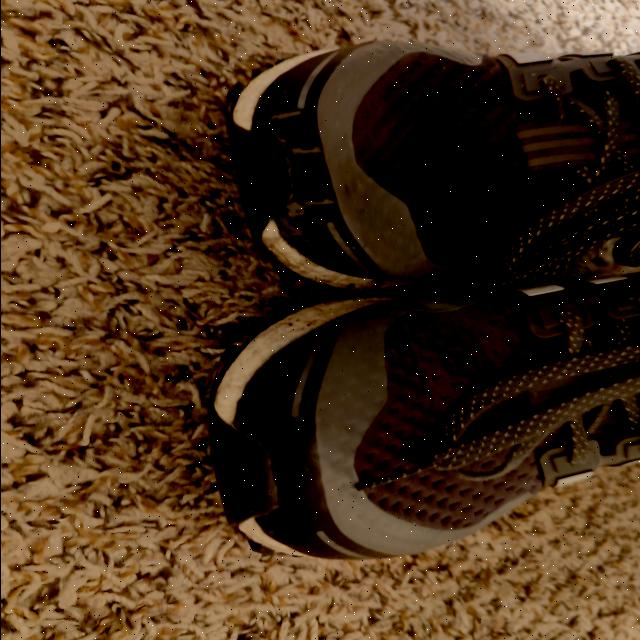black shoes: (219, 58, 640, 494)
